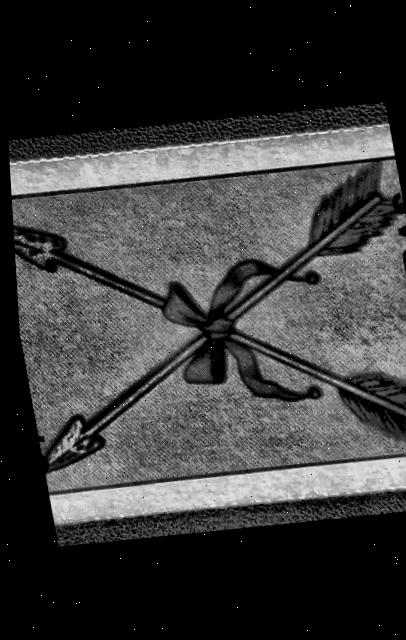Las Jaras: (6, 120, 406, 516)
